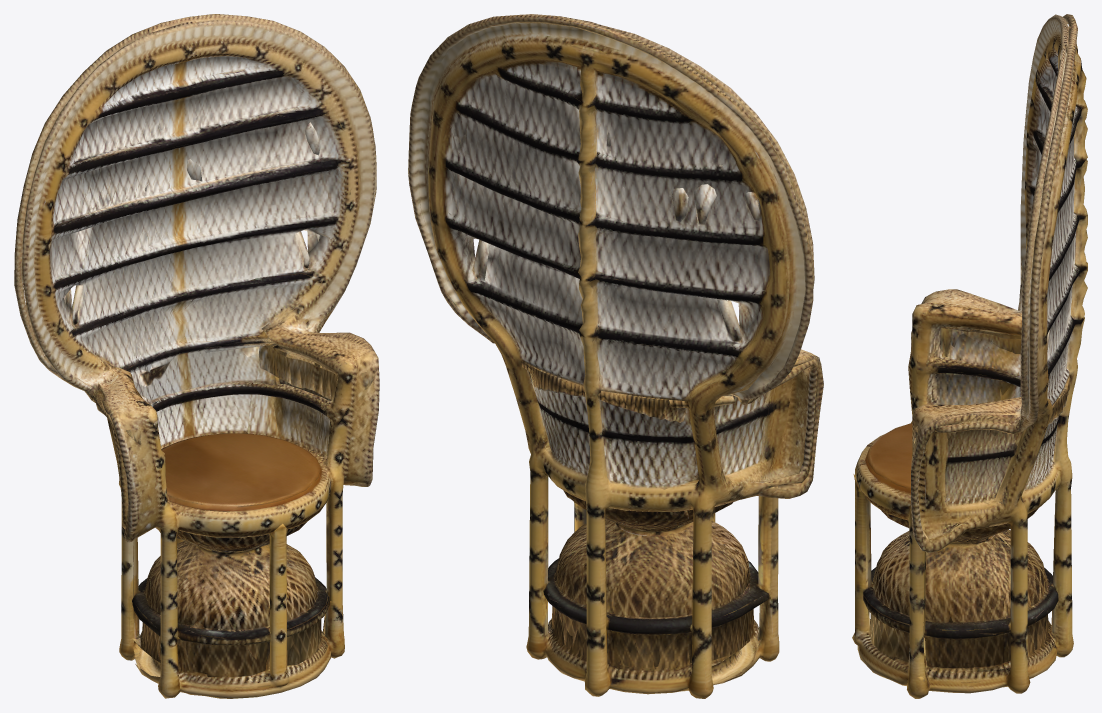
Rendered from Chair_Peacock_Wicker_60InchTall_0222191007_texture.glb.
The picture shows the model from 3 angles, left to right: view 1: azimuth 30°, elevation 25°; view 2: azimuth 150°, elevation 25°; view 3: azimuth 270°, elevation 25°; orthographic projection. The views are drawn at different scales.
Parts seen in each view (by area): view 1: Mesh_0; view 2: Mesh_0; view 3: Mesh_0.
Boxes of the visible parts, x1=… form: Mesh_0: x1=14, y1=14, x2=379, y2=698; Mesh_0: x1=408, y1=14, x2=823, y2=698; Mesh_0: x1=852, y1=14, x2=1087, y2=698.
Size of the model in its own units: 0.9576 by 1.52 by 0.5257.
1 material, 1 textured.
